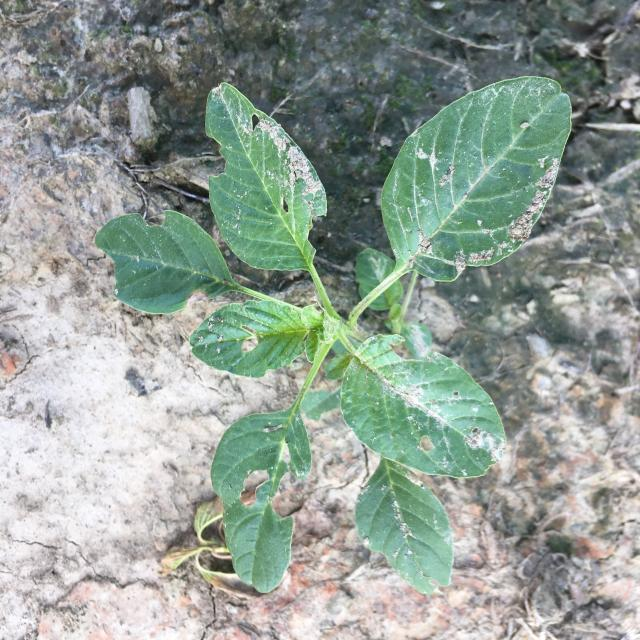PalmerAmaranth: (94, 76, 572, 596)
